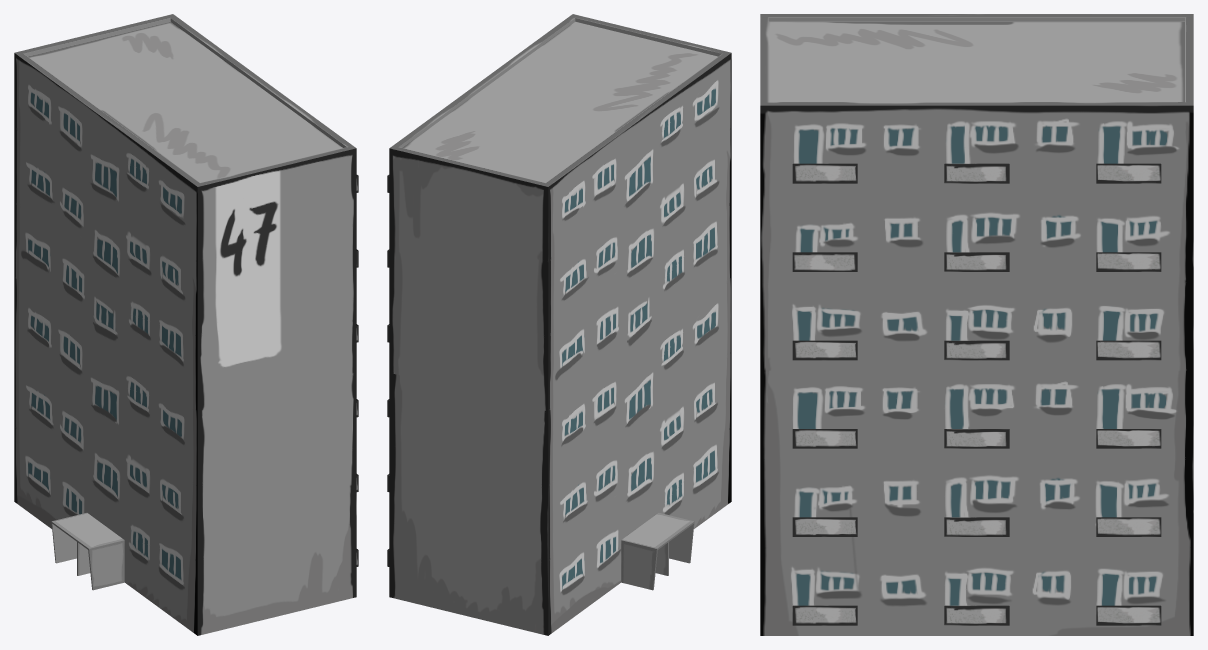
The model's file is blok1final.fbx.
The picture shows the model from 3 angles, left to right: view 1: azimuth 30°, elevation 25°; view 2: azimuth 150°, elevation 25°; view 3: azimuth 270°, elevation 25°; orthographic projection. The views are drawn at different scales.
Parts seen in each view (by area): view 1: Blok.001; view 2: Blok.001; view 3: Blok.001.
Part boxes in pixels (<box>): Blok.001: <box>14,14,358,635</box>; Blok.001: <box>387,14,731,635</box>; Blok.001: <box>760,14,1193,635</box>.
Bounding box in the file's own units: 1325 × 2700 × 2000.
